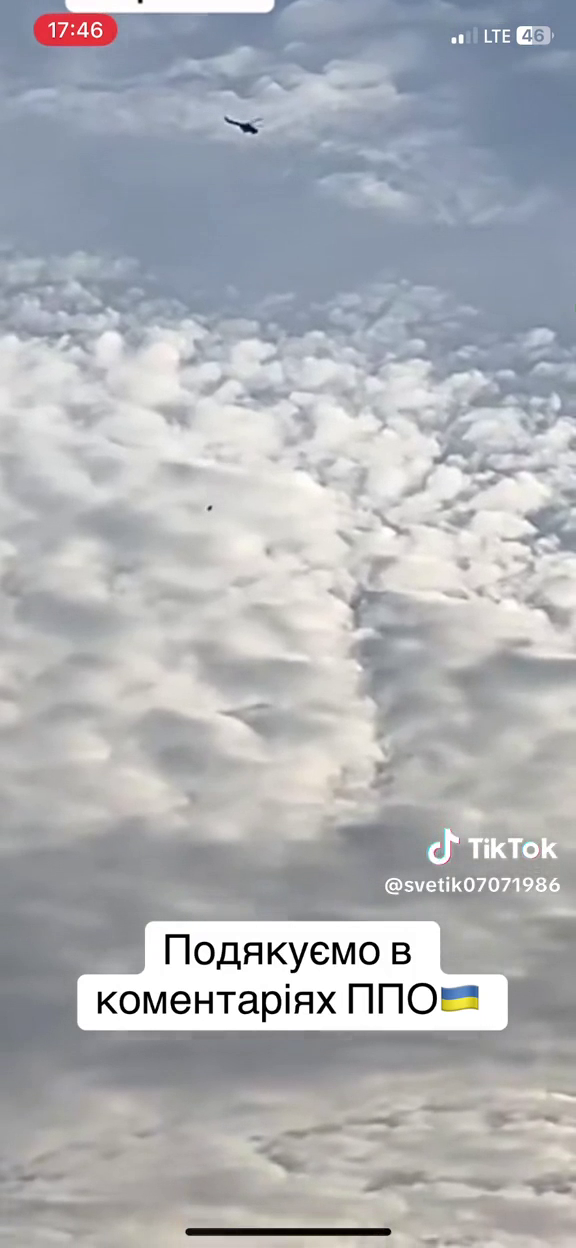not_drone: (219, 106, 268, 140)
